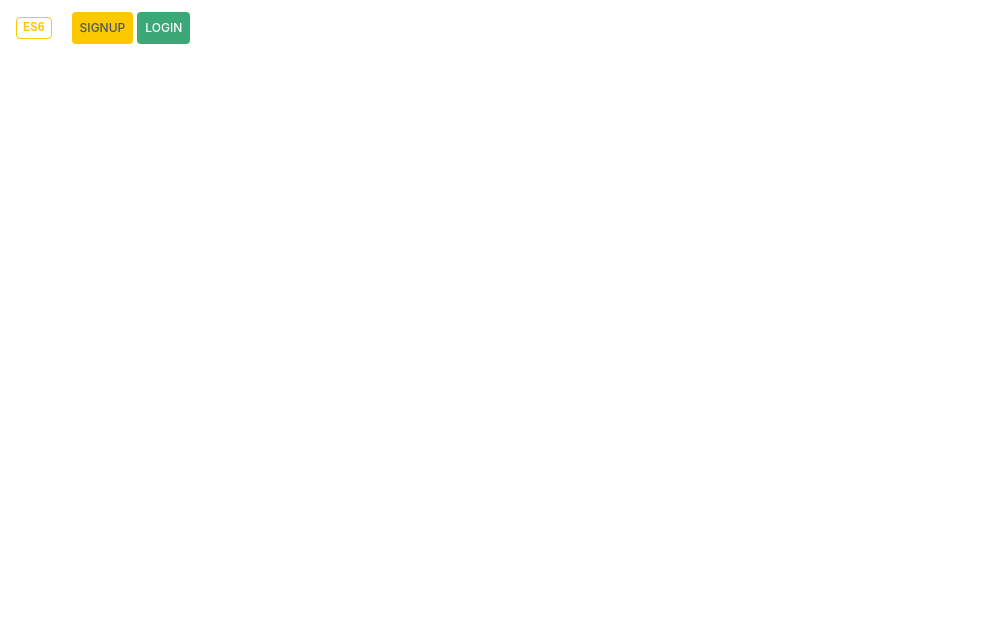
Scenario: AppHeader/Actions Component › correct show popup › signup popup
This screenshot has width=993, height=619.
Click the button "SIGNUP" at {"x": 102, "y": 28}, box [72,12,133,44]
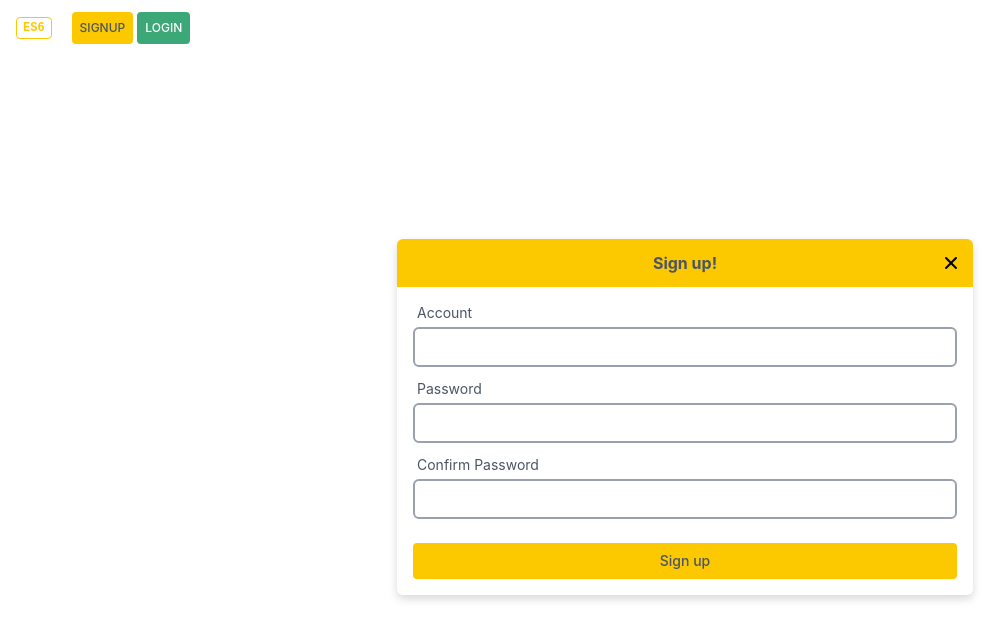
Expected: the heading "Sign up!" is shown, [653,253,717,273]
